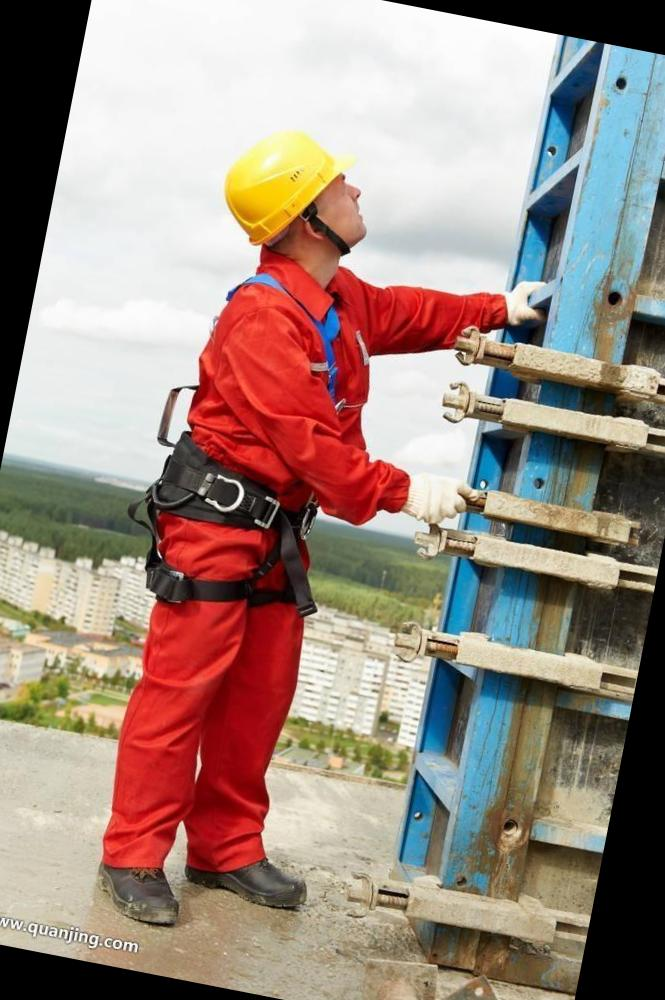Vest: (145, 259, 440, 662)
